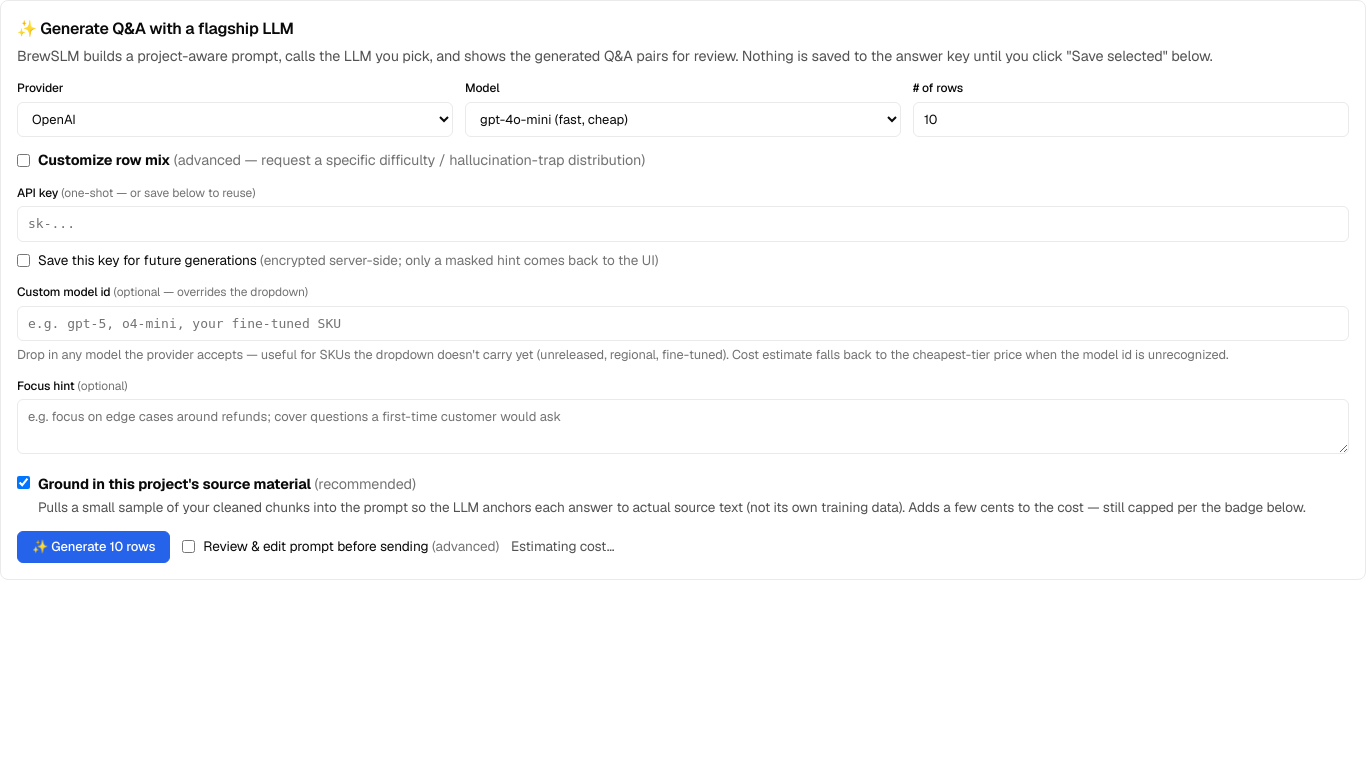
Scenario: LlmGoldGeneratePanel › POSTs the right payload + renders preview rows on happy path
Type "sk-test" into the password field with test id "llm-gold-api-key".
click(683, 224); type("sk-test")  # box [17, 206, 1349, 242]
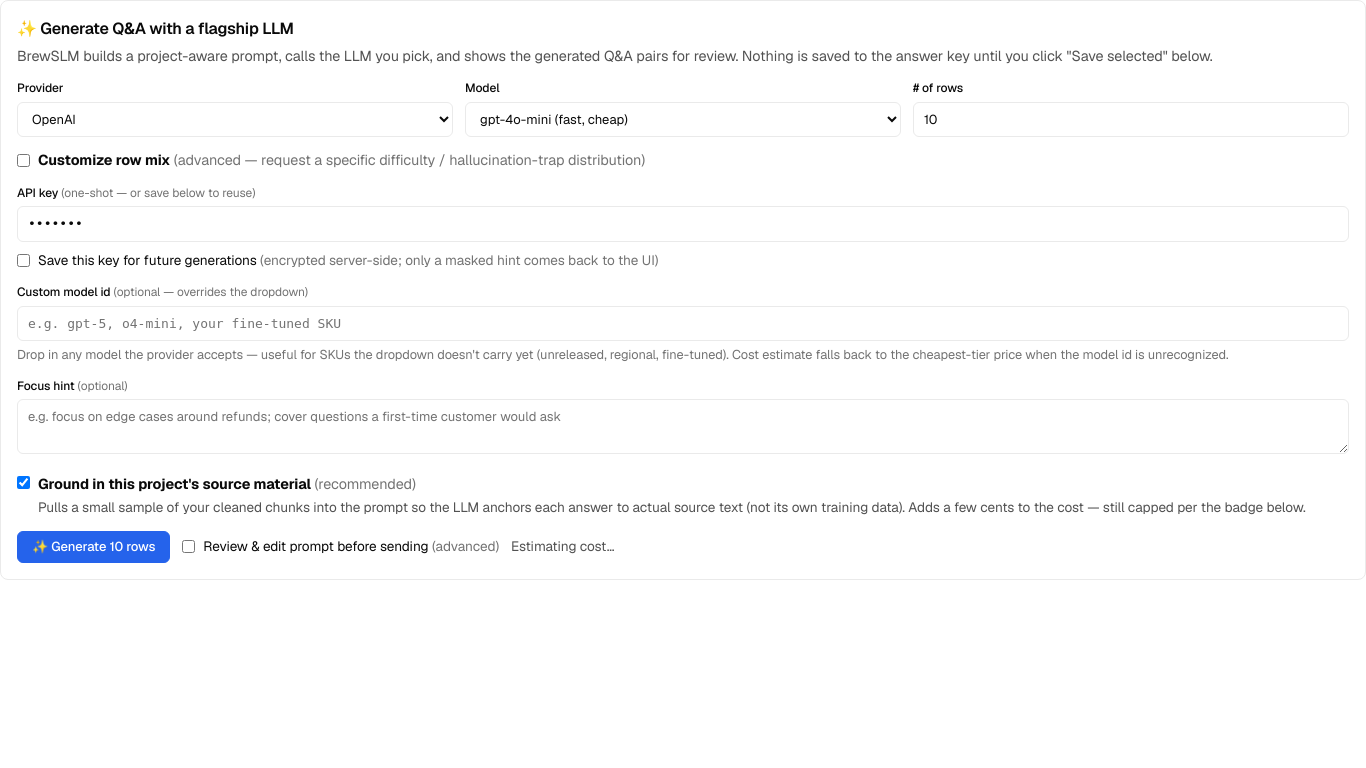
Replace the text in the number field with test id "llm-gold-count" with "3" at (1131, 120), box [913, 102, 1349, 137]
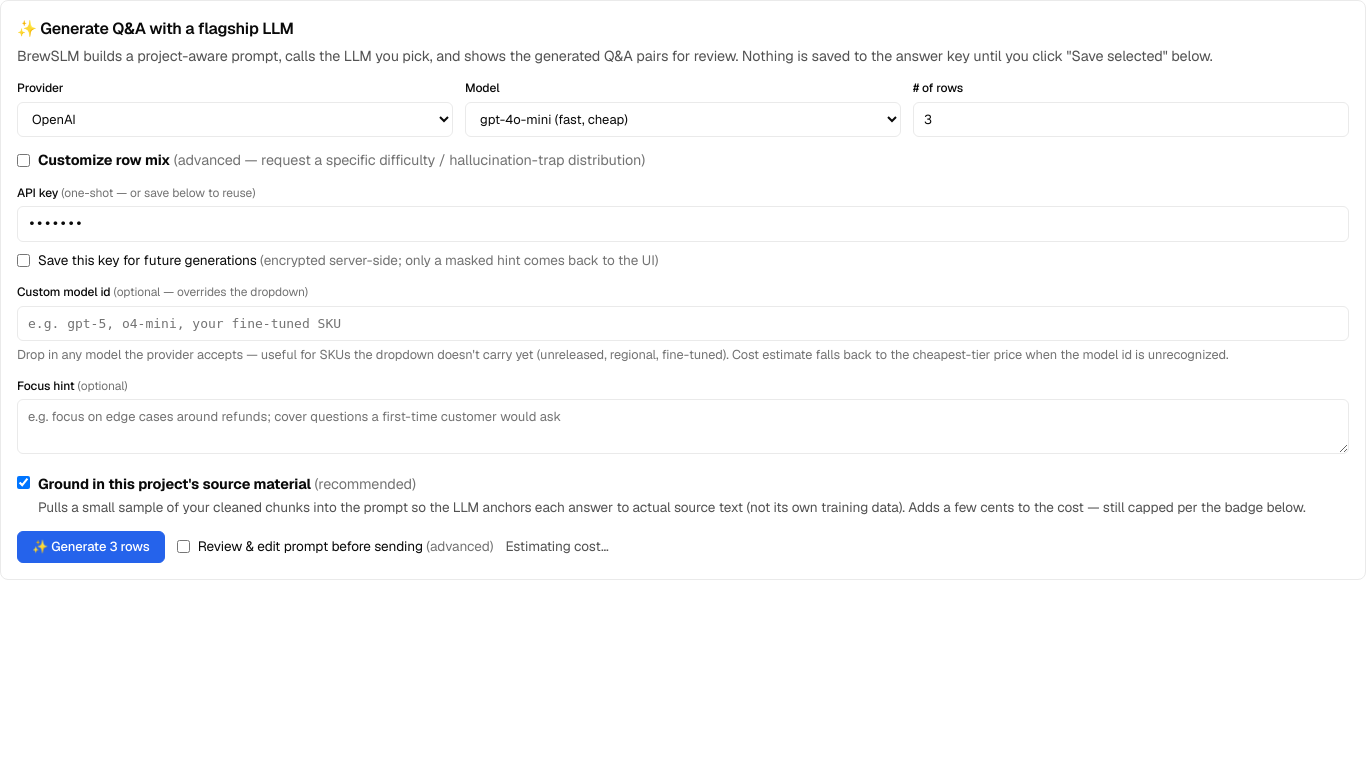
Replace the text in the text box with test id "llm-gold-focus-hint" with "edge cases around refunds" at (683, 427), box [17, 399, 1349, 454]
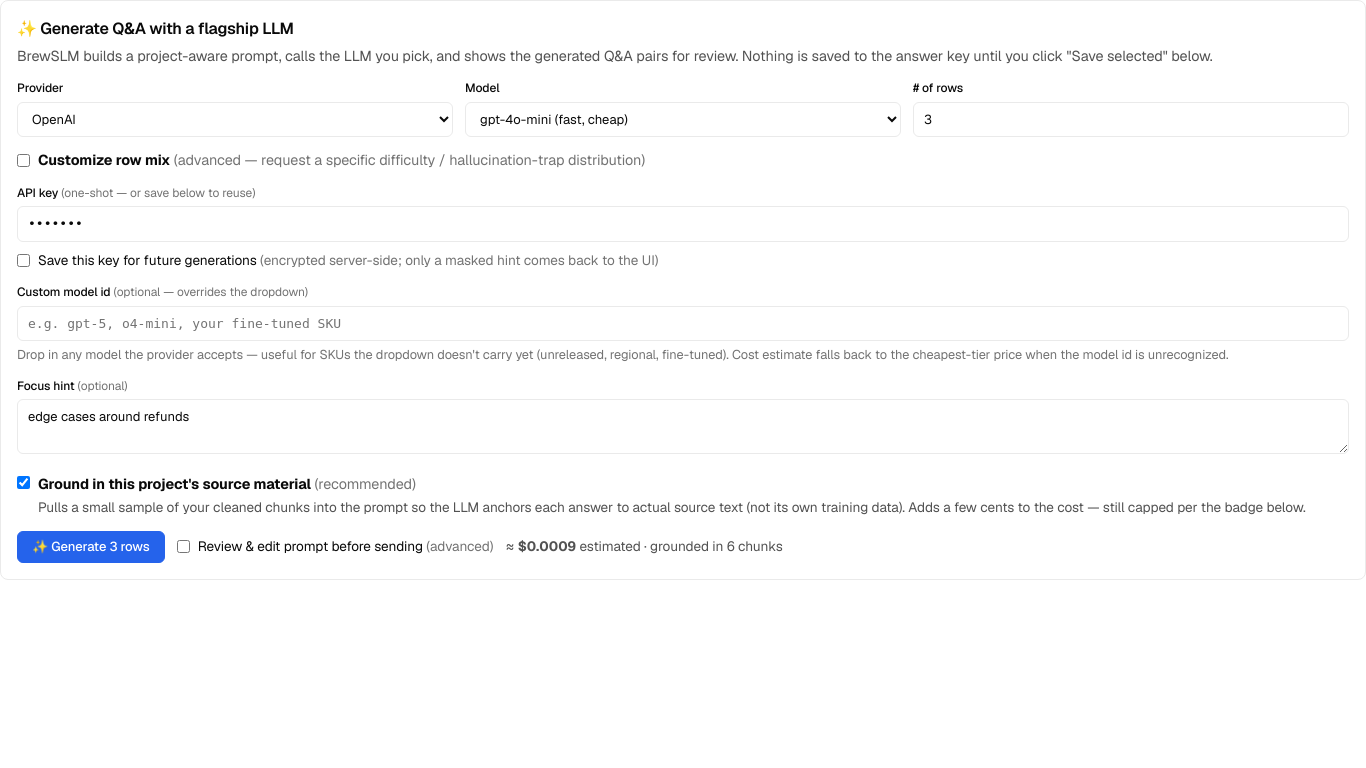
Click the button with test id "llm-gold-generate".
click(91, 546)  # box [17, 530, 165, 562]
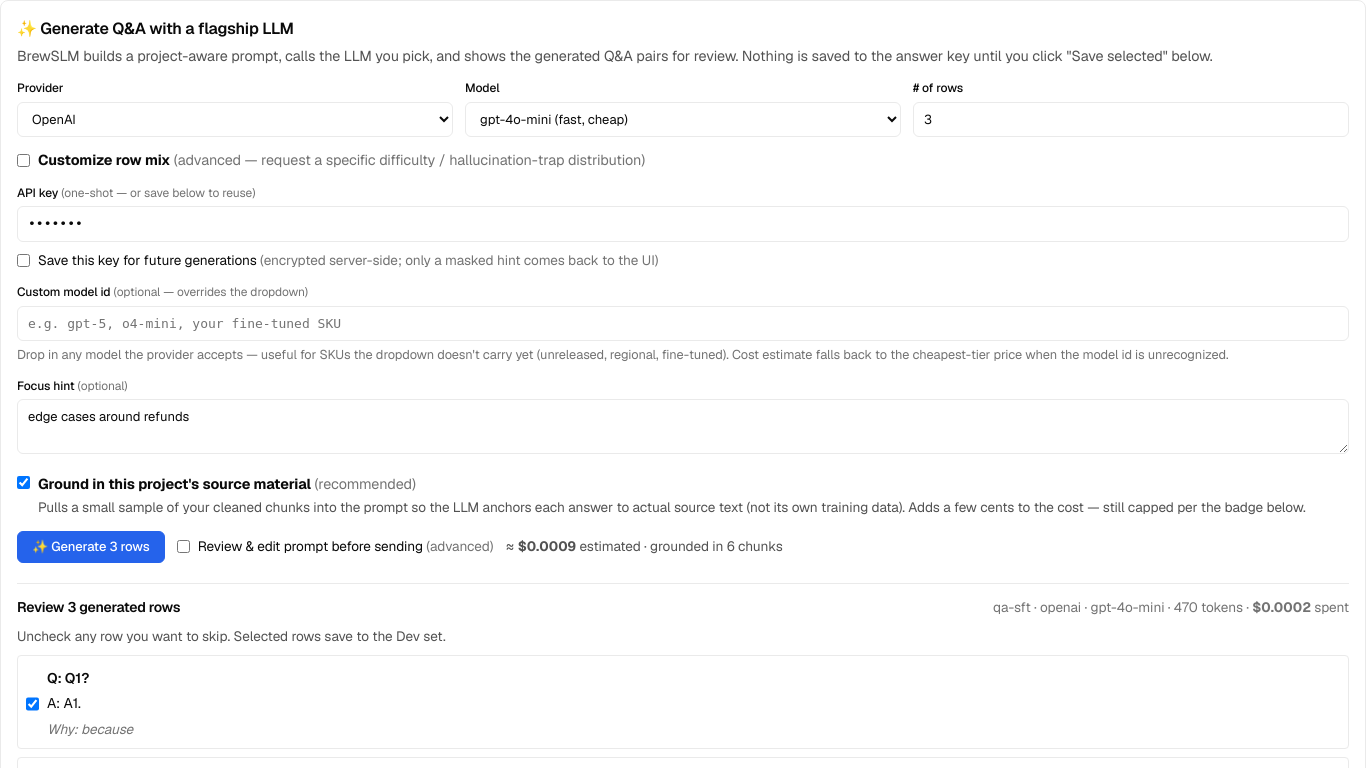
Expected: the label with test id "llm-gold-preview-row-0" reads "Q: Q1? A: A1. Why: because", [65, 669, 89, 687]
Expected: the element with test id "llm-gold-preview-meta" shows "openai · gpt-4o-mini · 470 tokens", [993, 596, 1349, 618]
Expected: the element with test id "llm-gold-preview-meta" shows "$0.0002 spent", [993, 596, 1349, 618]
